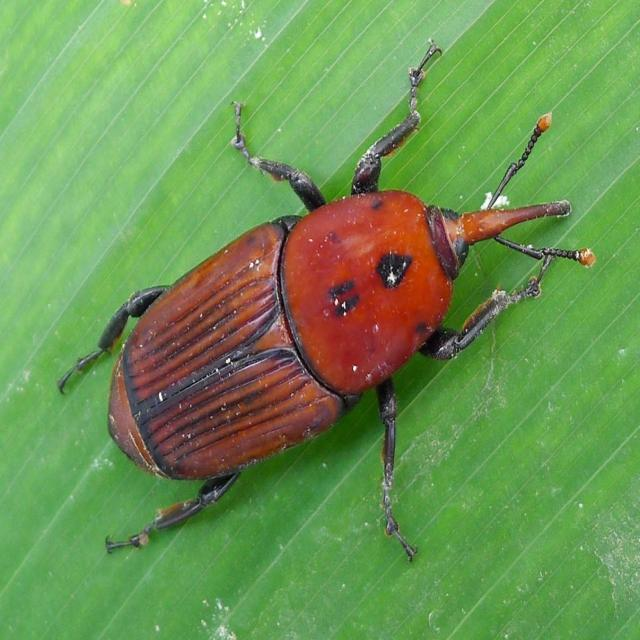Red-palm-weevil: (97, 110, 599, 485)
